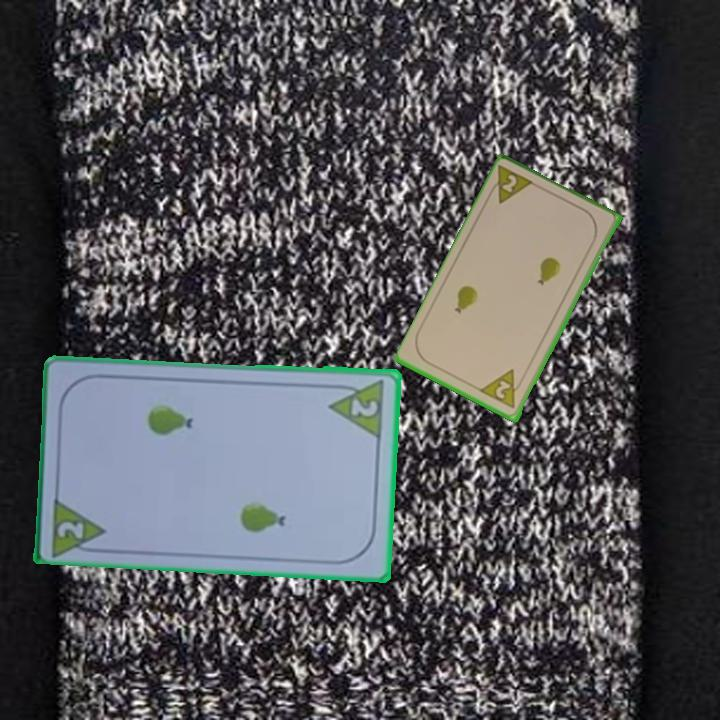2p: (326, 375, 388, 441), (484, 162, 538, 208), (478, 366, 527, 412), (53, 517, 87, 542)
